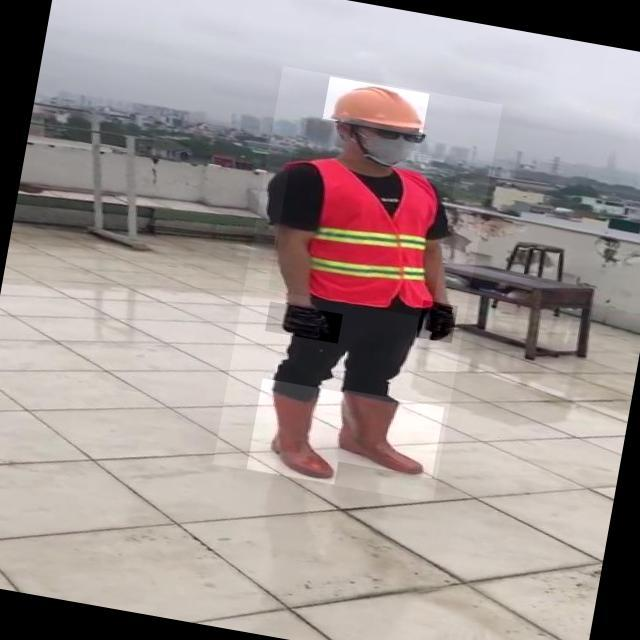Gloves: (266, 301, 343, 343), (417, 300, 458, 344)
Helmet: (324, 76, 430, 136)
Human: (213, 66, 504, 503)
Safety Boot: (247, 378, 350, 484), (333, 390, 444, 478)
Safety Vest: (269, 149, 455, 318)
